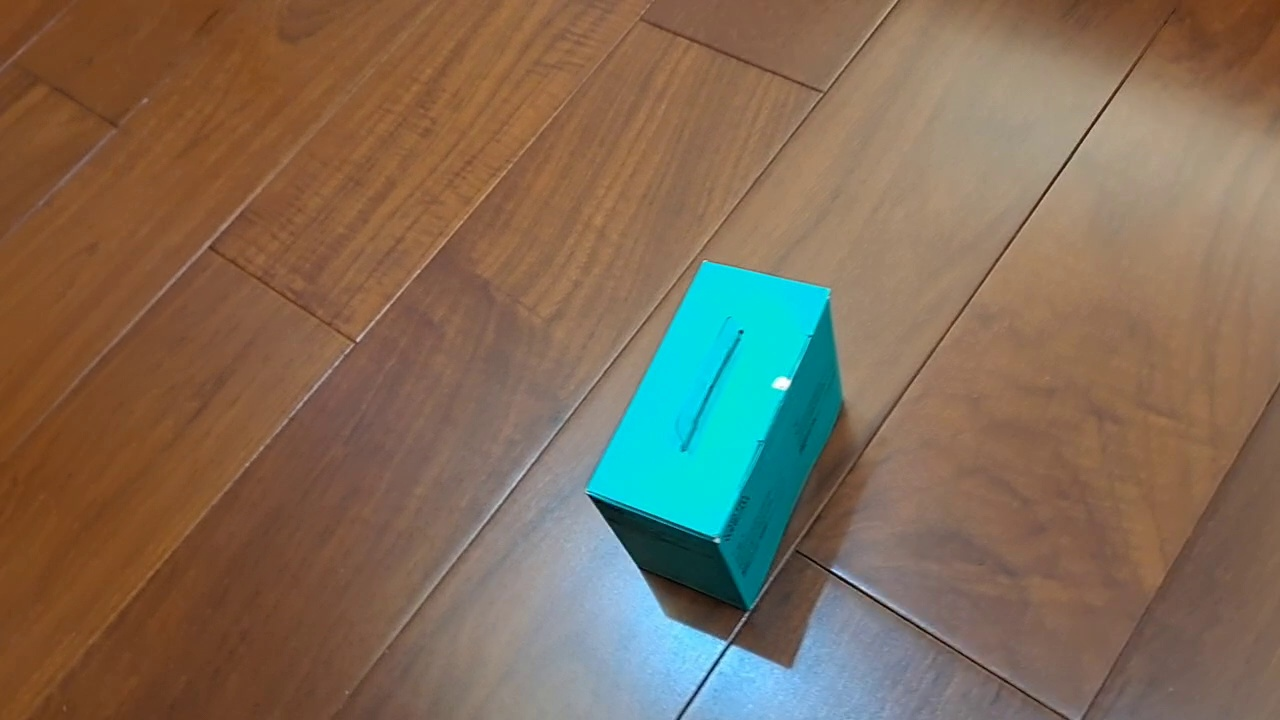webcam: (582, 257, 845, 613)
